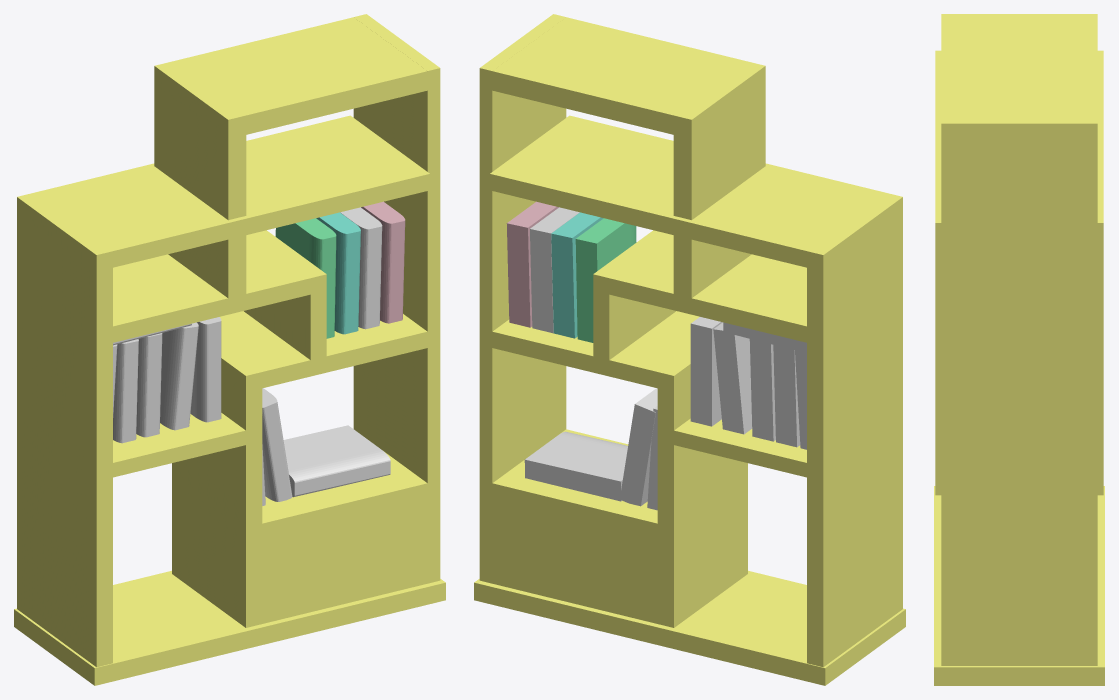
The model's file is shelf_1781722829440_model.glb.
The picture shows the model from 3 angles, left to right: view 1: azimuth 30°, elevation 25°; view 2: azimuth 150°, elevation 25°; view 3: azimuth 270°, elevation 25°; orthographic projection. The views are drawn at different scales.
Visible parts, largest first — view 1: Cube, Cube.004, Cube.008, Cube.012, Cube.014, Cube.005, Cube.011, Cube.013, Cube.010, Cube.002, Cube.009; view 2: Cube, Cube.004, Cube.011, Cube.008, Cube.012, Cube.014, Cube.005, Cube.013, Cube.002, Cube.010, Cube.009, Cube.007 (+2 smaller); view 3: Cube.
Part boxes in pixels (box(x1,y1,x2,y2)): Cube: box(14, 14, 445, 685); Cube.004: box(283, 425, 390, 497); Cube.008: box(160, 322, 198, 430); Cube.012: box(316, 212, 360, 334); Cube.014: box(361, 201, 405, 323); Cube.005: box(190, 317, 221, 422); Cube.011: box(275, 218, 336, 338); Cube.013: box(340, 207, 382, 329); Cube.010: box(136, 333, 162, 437); Cube.002: box(262, 388, 292, 501); Cube.009: box(113, 339, 138, 443); Cube: box(474, 14, 905, 685); Cube.004: box(524, 431, 627, 501); Cube.011: box(575, 218, 636, 342); Cube.008: box(713, 322, 752, 434); Cube.012: box(551, 212, 603, 338); Cube.014: box(506, 201, 558, 327); Cube.005: box(690, 317, 722, 426); Cube.013: box(530, 207, 579, 333); Cube.002: box(621, 388, 657, 506); Cube.010: box(749, 336, 775, 441); Cube.009: box(773, 343, 800, 447); Cube.007: box(795, 349, 806, 449); Cube: box(934, 14, 1104, 685).
Bounding box in the file's own units: 5.02 × 7.25 × 2.
